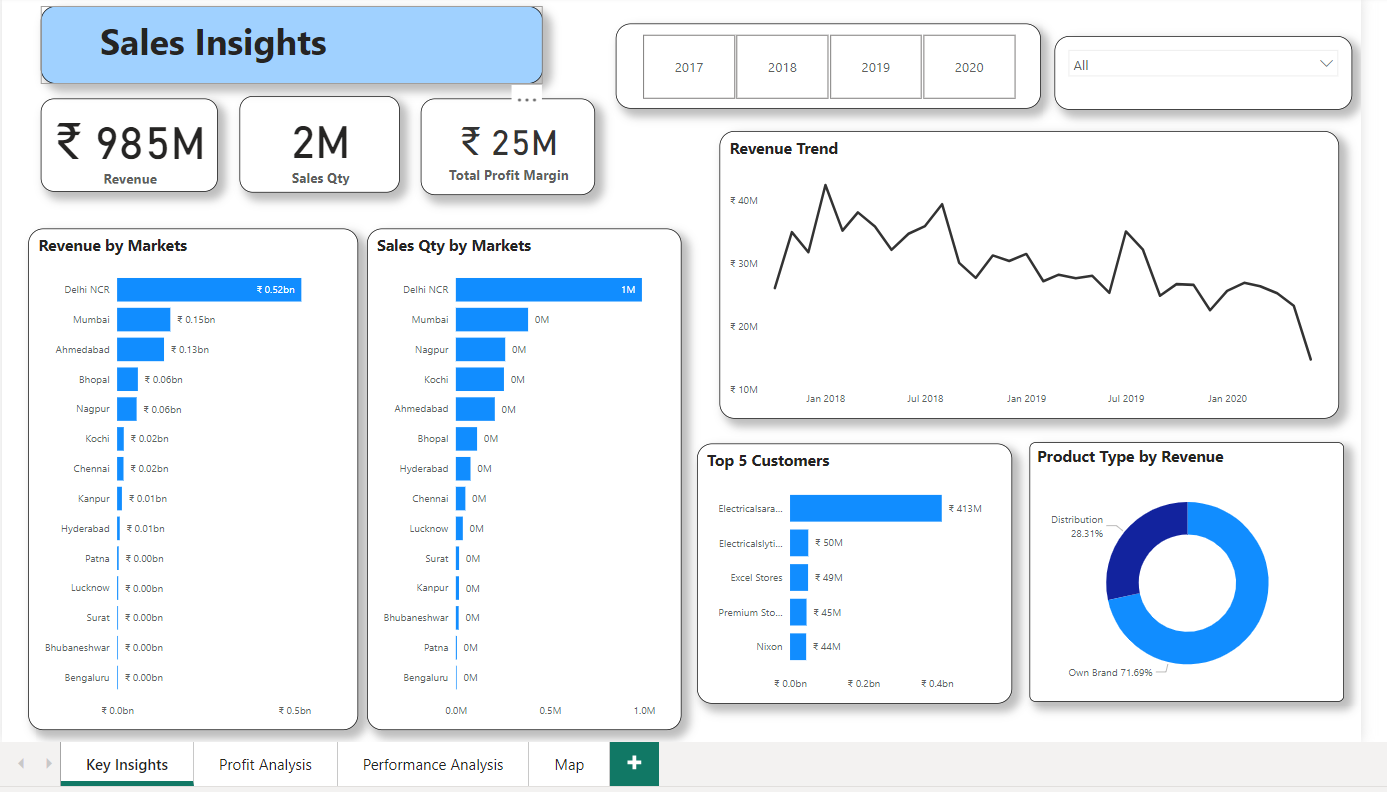

The page's visual inventory and layout, read from the dashboard file:
{"tool":"powerbi","page":{"name":"Key Insights","canvas":[1622,890],"ordinal":0},"visuals":[{"type":"card","fields":{"Values":["BaseMeasures.Revenue"]},"box":[45.6,123,211.1,110.9],"z":0},{"type":"card","fields":{"Values":["BaseMeasures.Sales Qty"]},"box":[283.2,120,191.4,115.4],"z":1000},{"type":"slicer","fields":{"Values":["sales date.year"]},"box":[732,33.4,507.3,101.8],"z":2000},{"type":"slicer","fields":{"Values":["sales date.month_name"]},"box":[1256,47.1,355.4,88.1],"z":3000},{"type":"lineChart","title":"Revenue Trend","fields":{"Y":["BaseMeasures.Revenue"],"Category":["sales date.cy_date"]},"box":[855.7,161,739.4,342.9],"z":4000},{"type":"barChart","title":"Revenue by Markets","fields":{"Category":["sales markets.markets_name"],"Y":["BaseMeasures.Revenue"]},"box":[31.9,277.9,393.4,598.4],"z":5000},{"type":"barChart","title":"Sales Qty by Markets","fields":{"Y":["BaseMeasures.Sales Qty"],"Category":["sales markets.markets_name"]},"box":[435.9,277.9,375.1,598.4],"z":6000},{"type":"barChart","title":"Top 5 Customers","fields":{"Y":["BaseMeasures.Revenue"],"Category":["sales customers.custmer_name"]},"box":[828.9,533.7,375.7,310.1],"z":7000},{"type":"donutChart","title":"Product Type by Revenue","fields":{"Y":["BaseMeasures.Revenue"],"Category":["sales products.product_type"]},"box":[1225.6,533.1,375.1,309.8],"z":8000},{"type":"card","fields":{"Values":["BaseMeasures.Total Profit Margin"]},"box":[499.7,123,208.1,115.4],"z":9000},{"type":"textbox","box":[31.9,0,675.8,104.8],"z":10000}]}

Visuals, with their boxes in screenshot pixels (x1, y1, x2, y2):
card - BaseMeasures.Revenue: l=35, t=97, r=213, b=190
card - BaseMeasures.Sales Qty: l=235, t=94, r=397, b=191
slicer - sales date.year: l=614, t=21, r=1041, b=107
slicer - sales date.month_name: l=1056, t=32, r=1355, b=107
"Revenue Trend" lineChart: l=718, t=129, r=1342, b=418
"Revenue by Markets" barChart: l=23, t=227, r=355, b=732
"Sales Qty by Markets" barChart: l=364, t=227, r=680, b=732
"Top 5 Customers" barChart: l=695, t=443, r=1012, b=704
"Product Type by Revenue" donutChart: l=1030, t=442, r=1346, b=704
card - BaseMeasures.Total Profit Margin: l=418, t=97, r=593, b=194
textbox: l=23, t=0, r=593, b=81
